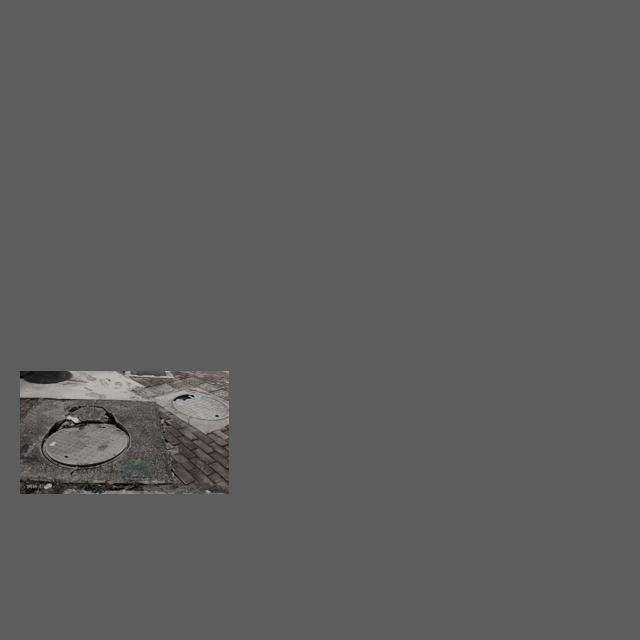circle: (21, 395, 177, 484)
